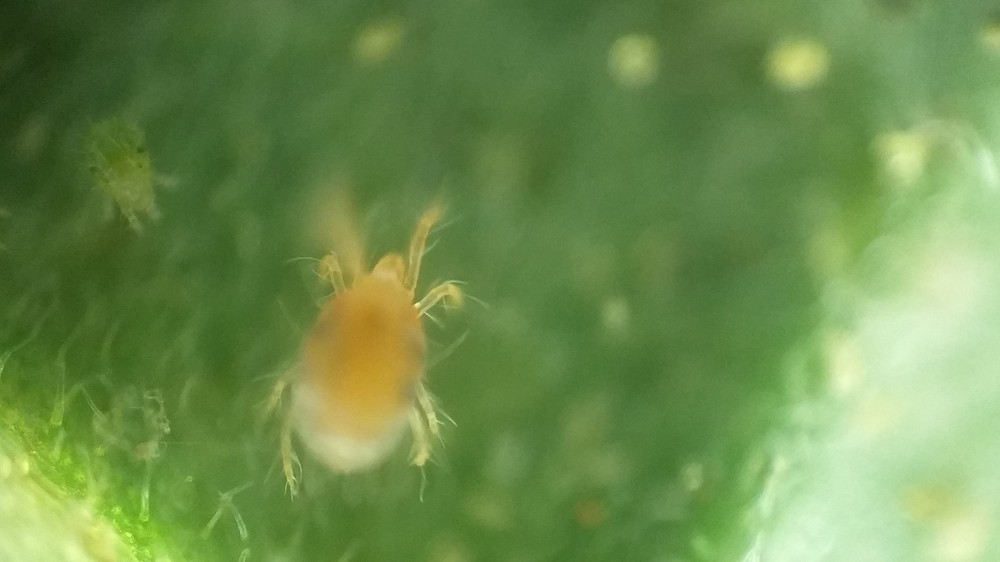Aracnido Rojo: (228, 181, 507, 518), (60, 99, 195, 237)
